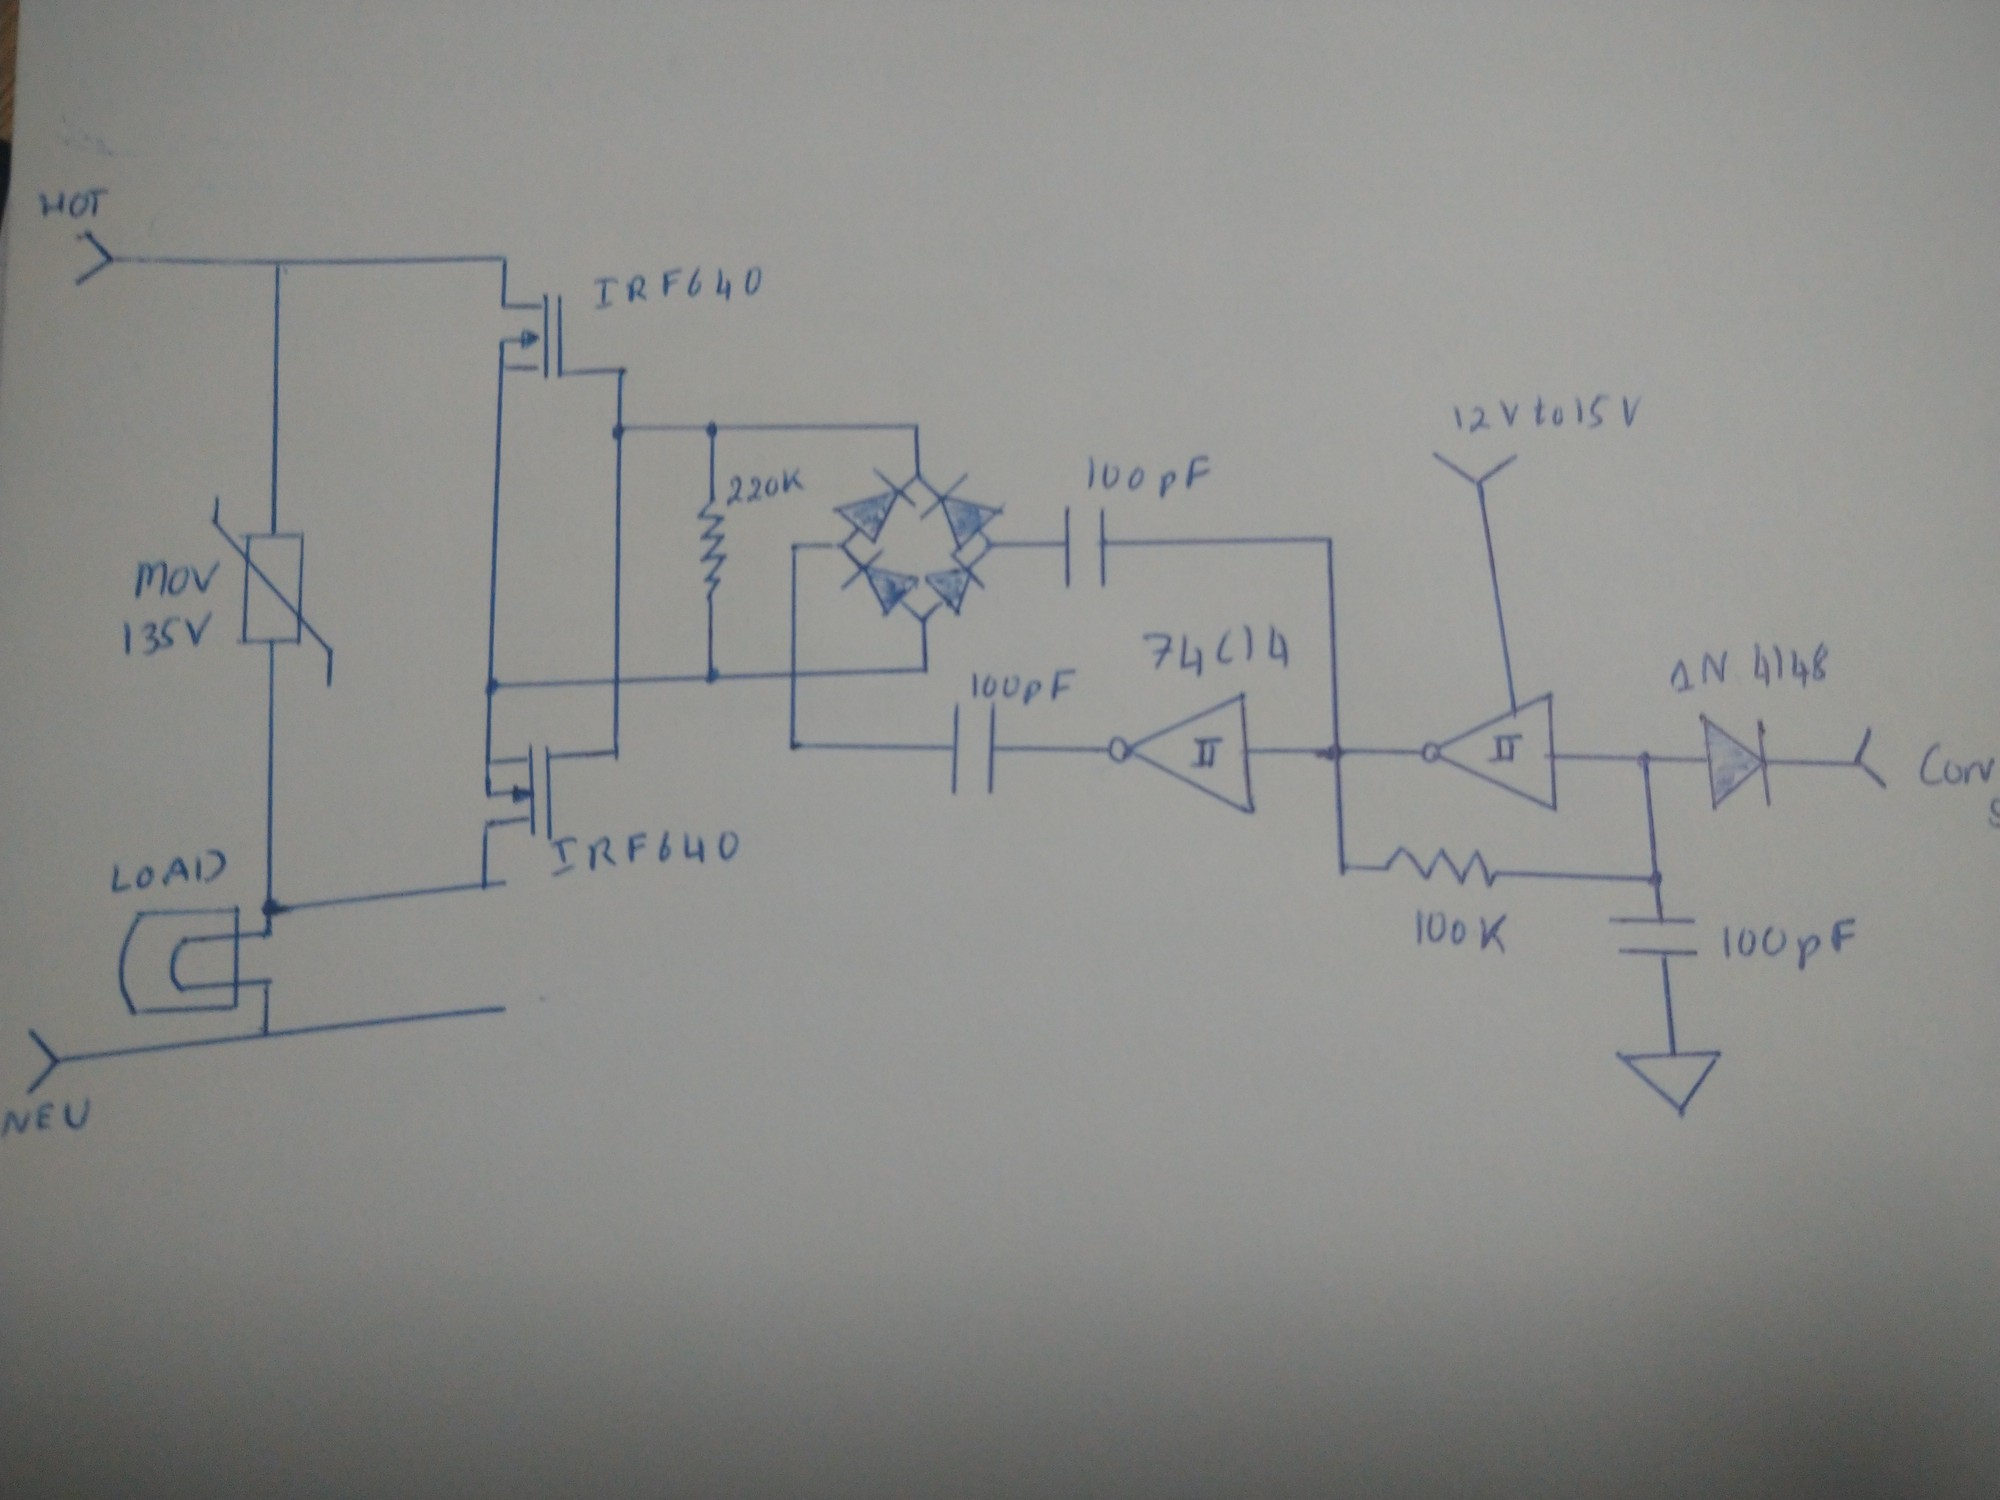capacitor.unpolarized: (937, 701, 1014, 800), (1047, 503, 1129, 592), (1605, 909, 1706, 967)
crossover: (605, 670, 631, 692), (783, 663, 805, 682)
diode: (1690, 707, 1784, 818), (920, 473, 1005, 548), (831, 468, 913, 544), (841, 548, 920, 616), (924, 555, 987, 614)
gnd: (1609, 1045, 1728, 1120)
junction: (1320, 739, 1354, 764), (477, 674, 506, 700), (1643, 867, 1671, 892), (1631, 745, 1657, 770), (699, 663, 723, 689), (606, 421, 631, 444), (258, 897, 283, 919), (268, 252, 290, 276), (1332, 859, 1356, 881), (1318, 529, 1342, 550), (606, 742, 627, 763), (613, 361, 631, 381), (980, 536, 1002, 553), (702, 418, 720, 440), (496, 251, 517, 268), (784, 734, 802, 755), (496, 1001, 513, 1019), (476, 876, 491, 897), (261, 972, 279, 989), (913, 611, 932, 627), (258, 925, 276, 941), (257, 1026, 274, 1041), (787, 539, 805, 555), (910, 468, 928, 484), (909, 419, 928, 433), (917, 662, 932, 678), (835, 537, 849, 553)
lamp: (110, 901, 244, 1019)
resistor: (1383, 838, 1501, 890), (693, 495, 729, 600)
schmitt_trigger: (1106, 692, 1263, 818), (1419, 689, 1564, 815)
terminal: (1428, 446, 1521, 488), (1850, 722, 1899, 796), (24, 1026, 61, 1093), (72, 228, 113, 288)
text: (550, 830, 745, 878), (587, 263, 770, 314), (1139, 622, 1296, 681), (1668, 640, 1831, 693), (1718, 917, 1858, 972), (1449, 392, 1643, 432), (1080, 452, 1214, 499), (107, 846, 230, 895), (1409, 904, 1513, 956), (120, 610, 216, 660), (967, 666, 1079, 709), (3, 1095, 94, 1141), (131, 558, 222, 600), (724, 465, 809, 507), (1913, 741, 1995, 785), (35, 183, 110, 224), (1984, 796, 2000, 829)
transistor: (476, 744, 559, 843), (490, 291, 572, 381)
varistor: (206, 495, 337, 692)
